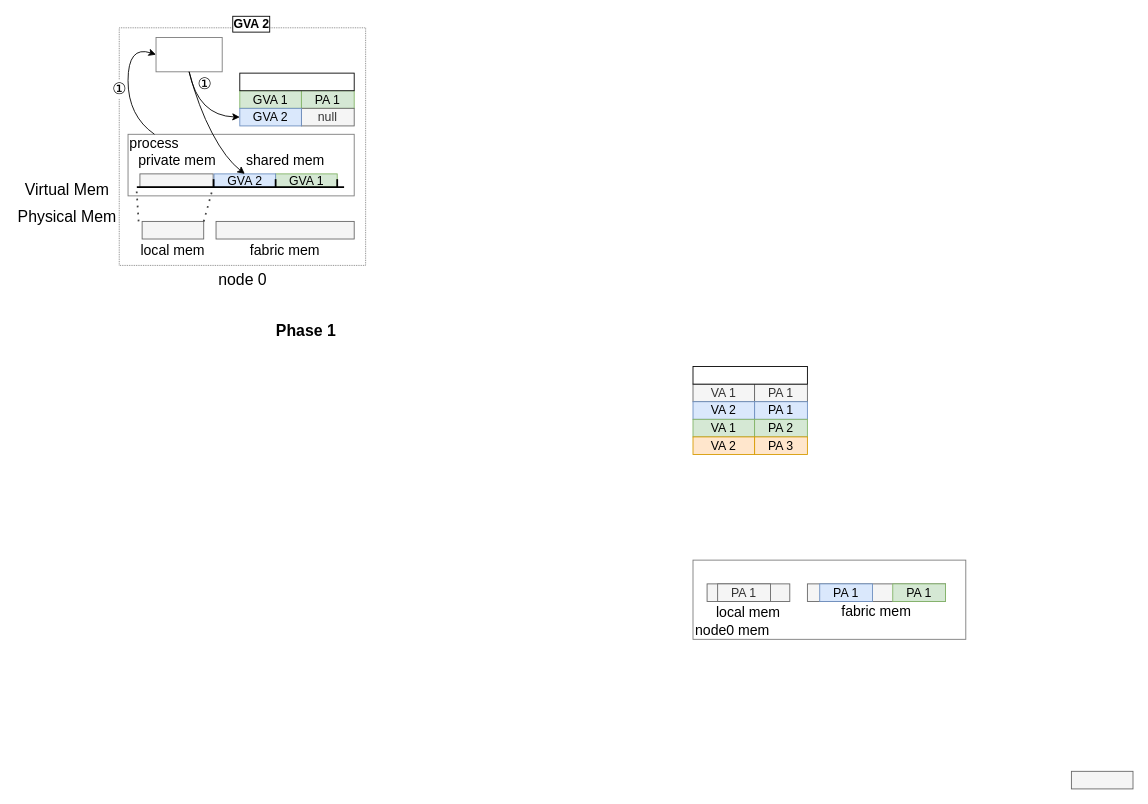
Some shapes in this 1148 by 804 pixel diagram are drawn without their labels. Here are the shapes that lost their labels. From the top down, the centre of each, then its label:
the point at 188,54: fabric manager
the point at 296,81: NPU page table
the point at 749,375: proc0 page table
